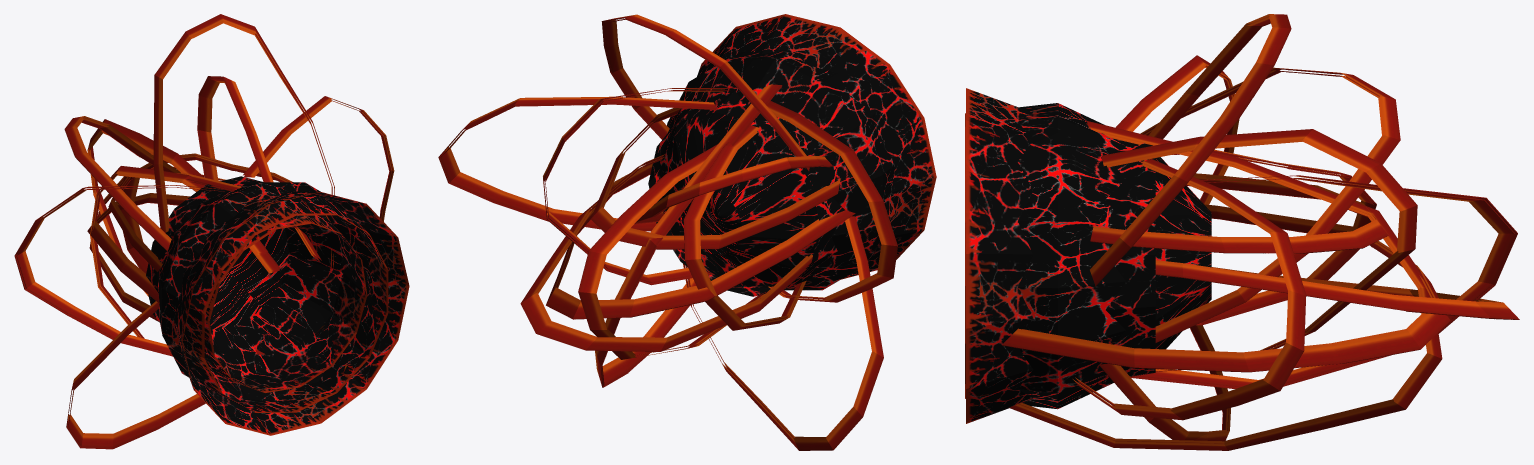
Rendered from Meteor_Explosion.FBX.
The picture shows the model from 3 angles, left to right: view 1: azimuth 30°, elevation 25°; view 2: azimuth 150°, elevation 25°; view 3: azimuth 270°, elevation 25°; orthographic projection. The views are drawn at different scales.
Visible parts, largest first — view 1: Web_Mesh; view 2: Web_Mesh; view 3: Web_Mesh.
Part boxes in pixels (bbox=[...]): Web_Mesh: bbox=[14, 14, 409, 449]; Web_Mesh: bbox=[438, 14, 936, 450]; Web_Mesh: bbox=[965, 14, 1519, 450].
Bounding box in the file's own units: 432 × 401 × 401.
